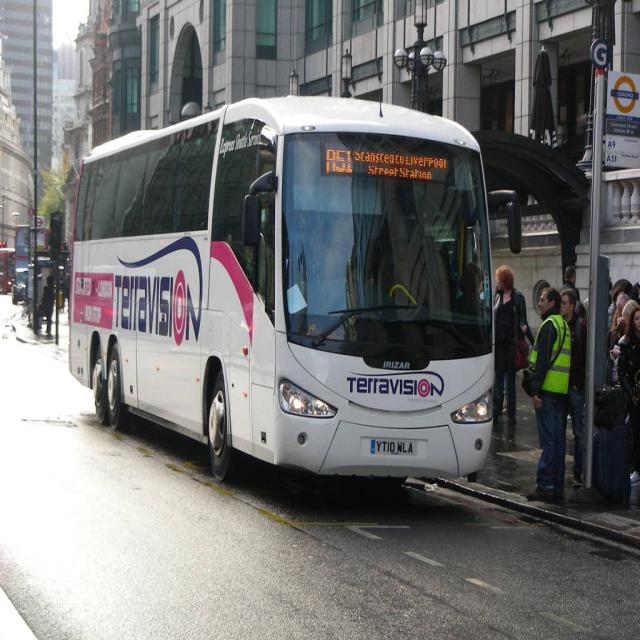Buses: (69, 98, 494, 490)
Passenger Car: (526, 288, 569, 507)
